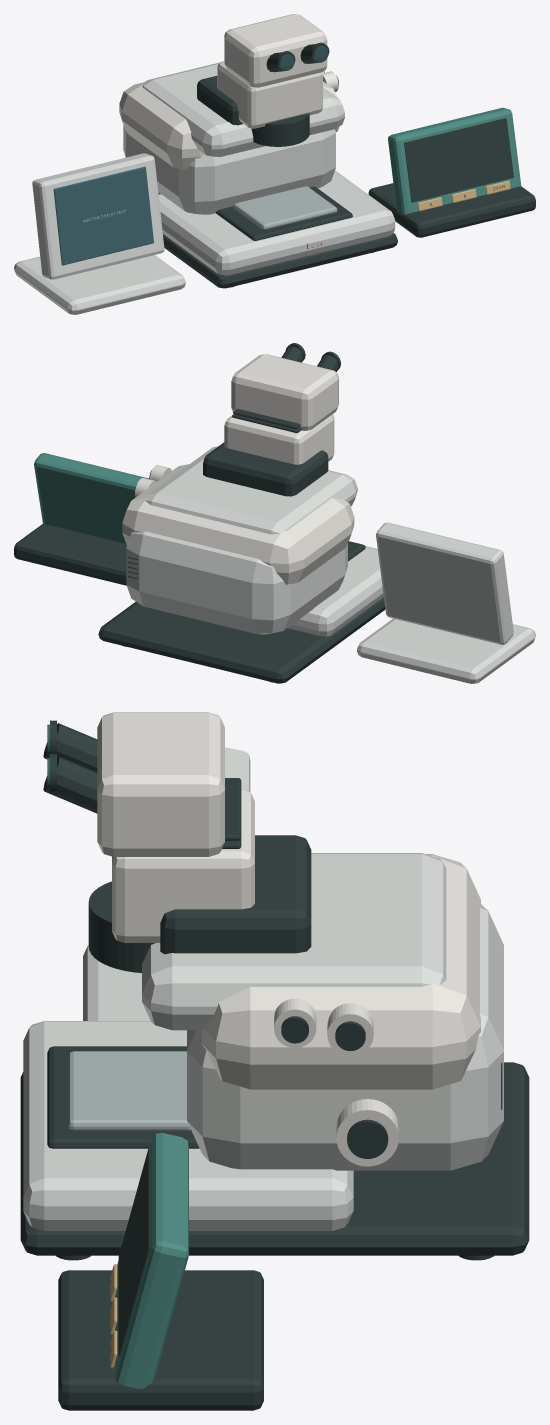
Rendered from leica-uc7.glb.
3 renders of one model, top to bottom at view 1: azimuth 30°, elevation 25°; view 2: azimuth 150°, elevation 25°; view 3: azimuth 270°, elevation 25°, orthographic. The views are drawn at different scales.
Parts seen in each view (by area): view 1: SHALLOW_FRONT_BASE, CENTER_UPPER_SHELL, DISPLAY_DIAGONAL_10_4, DRY_PAD_SCREEN, CONTROLLER_BASE, CONTROLLER_HOUSING, UPPER_NECK_BRIDGE, M80_BINOCULAR_HEAD, DETACHED_PAD_BASE, TOP_TAPER_SHELL, BINOCULAR_NECK, DRY_PAD_CASE (+5 smaller); view 2: CENTER_UPPER_SHELL, CONTROLLER_HOUSING, REFERENCE_FOOTPRINT, TOP_TAPER_SHELL, UPPER_NECK_BRIDGE, CONTROLLER_BASE, DRY_PAD_CASE, M80_BINOCULAR_HEAD, DETACHED_PAD_BASE, OUTER_MICROSCOPE_MOUNT, SHALLOW_FRONT_BASE, BINOCULAR_NECK (+1 smaller); view 3: CENTER_UPPER_SHELL, UPPER_NECK_BRIDGE, TOP_TAPER_SHELL, SHALLOW_FRONT_BASE, REFERENCE_FOOTPRINT, DETACHED_PAD_BASE, M80_BINOCULAR_HEAD, OUTER_MICROSCOPE_MOUNT, DRY_PAD_CASE, BINOCULAR_NECK, EMPTY_INSERT_EXT, CLOSED_FRONT_BAY (+11 smaller).
Part boxes in pixels (<box>): SHALLOW_FRONT_BASE: <box>158,170,395,275</box>; CENTER_UPPER_SHELL: <box>123,125,335,214</box>; DISPLAY_DIAGONAL_10_4: <box>53,166,153,265</box>; DRY_PAD_SCREEN: <box>404,118,513,202</box>; CONTROLLER_BASE: <box>14,255,185,314</box>; CONTROLLER_HOUSING: <box>32,153,164,279</box>; UPPER_NECK_BRIDGE: <box>141,62,344,156</box>; M80_BINOCULAR_HEAD: <box>224,14,327,87</box>; DETACHED_PAD_BASE: <box>368,183,535,237</box>; TOP_TAPER_SHELL: <box>119,81,338,169</box>; BINOCULAR_NECK: <box>217,61,322,128</box>; DRY_PAD_CASE: <box>388,107,521,214</box>; CENTER_UPPER_SHELL: <box>126,531,347,634</box>; CONTROLLER_HOUSING: <box>376,522,513,644</box>; REFERENCE_FOOTPRINT: <box>98,597,385,683</box>; TOP_TAPER_SHELL: <box>122,464,354,584</box>; UPPER_NECK_BRIDGE: <box>145,446,357,534</box>; CONTROLLER_BASE: <box>357,618,535,683</box>; DRY_PAD_CASE: <box>34,453,149,543</box>; M80_BINOCULAR_HEAD: <box>231,354,338,430</box>; DETACHED_PAD_BASE: <box>14,524,126,585</box>; OUTER_MICROSCOPE_MOUNT: <box>203,442,328,496</box>; SHALLOW_FRONT_BASE: <box>288,546,383,636</box>; BINOCULAR_NECK: <box>224,414,334,464</box>; CENTER_UPPER_SHELL: <box>187,904,503,1170</box>; UPPER_NECK_BRIDGE: <box>142,853,446,1030</box>; TOP_TAPER_SHELL: <box>202,854,480,1089</box>; SHALLOW_FRONT_BASE: <box>23,1021,353,1230</box>; REFERENCE_FOOTPRINT: <box>20,1062,529,1255</box>; DETACHED_PAD_BASE: <box>58,1270,263,1410</box>; M80_BINOCULAR_HEAD: <box>97,712,224,856</box>; OUTER_MICROSCOPE_MOUNT: <box>160,835,311,954</box>; DRY_PAD_CASE: <box>115,1132,188,1388</box>; BINOCULAR_NECK: <box>112,788,254,942</box>; EMPTY_INSERT_EXT: <box>68,1051,190,1130</box>; CLOSED_FRONT_BAY: <box>47,1046,199,1148</box>.
Size of the model in its own units: 1.06 by 0.487 by 0.505.
